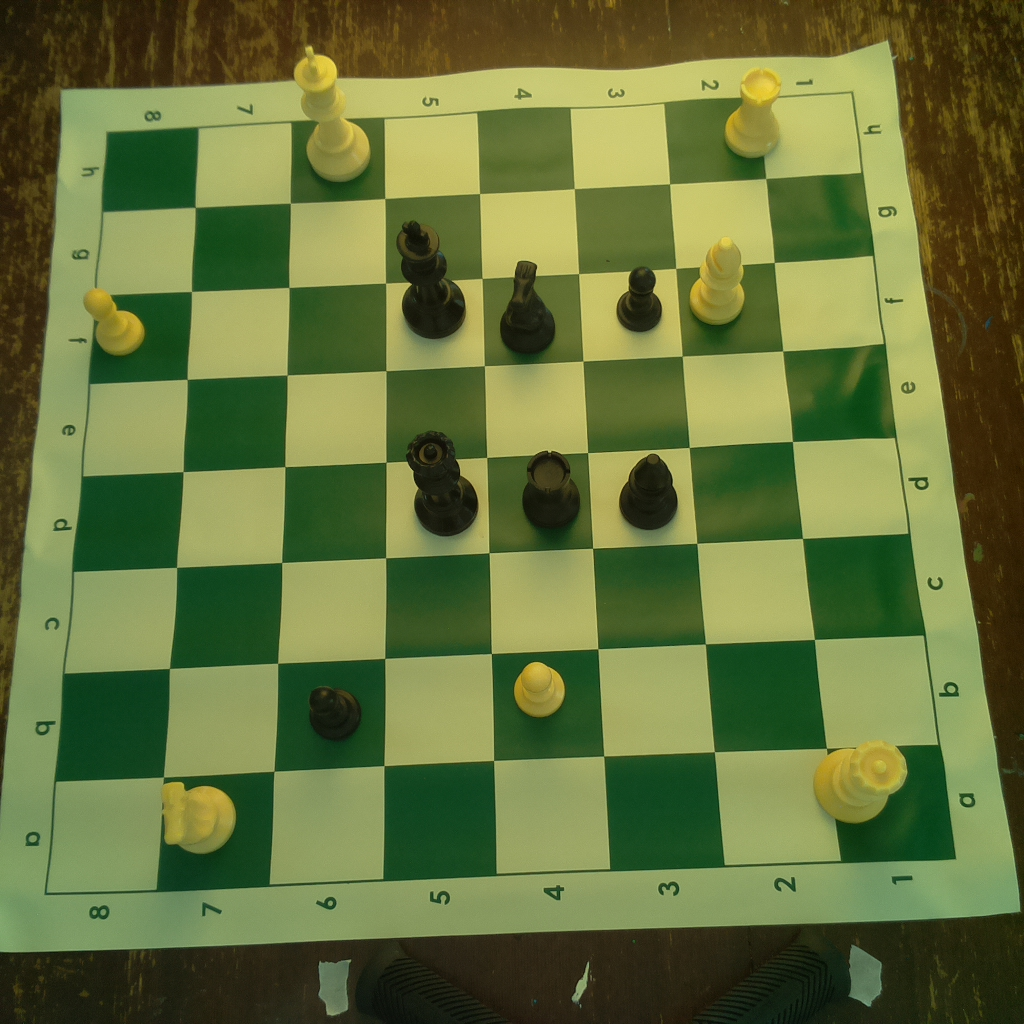black_bishop: (611, 448, 685, 534)
black_king: (393, 219, 468, 343)
black_knight: (494, 257, 558, 356)
black_pawn: (614, 262, 668, 334), (305, 686, 366, 739)
black_queen: (403, 430, 483, 538)
black_rook: (519, 440, 585, 536)
file_a: (46, 748, 957, 896)
file_b: (53, 635, 938, 783)
file_c: (60, 534, 923, 675)
file_d: (71, 438, 910, 574)
file_e: (85, 348, 894, 478)
file_f: (92, 256, 884, 387)
file_g: (97, 173, 876, 296)
file_h: (103, 92, 864, 212)
outline: (46, 91, 955, 895)
rank_1: (760, 91, 958, 864)
rank_2: (667, 93, 842, 865)
rank_3: (570, 101, 728, 873)
rank_4: (476, 105, 611, 874)
rank_5: (384, 114, 499, 880)
rank_6: (267, 121, 384, 882)
rank_7: (158, 123, 293, 892)
rank_8: (44, 127, 198, 899)
white_bishop: (684, 230, 749, 328)
white_king: (286, 40, 375, 186)
white_knight: (158, 777, 237, 857)
white_pawn: (79, 282, 149, 358), (512, 657, 571, 719)
white_queen: (812, 735, 912, 831)
white_rook: (721, 64, 790, 162)
